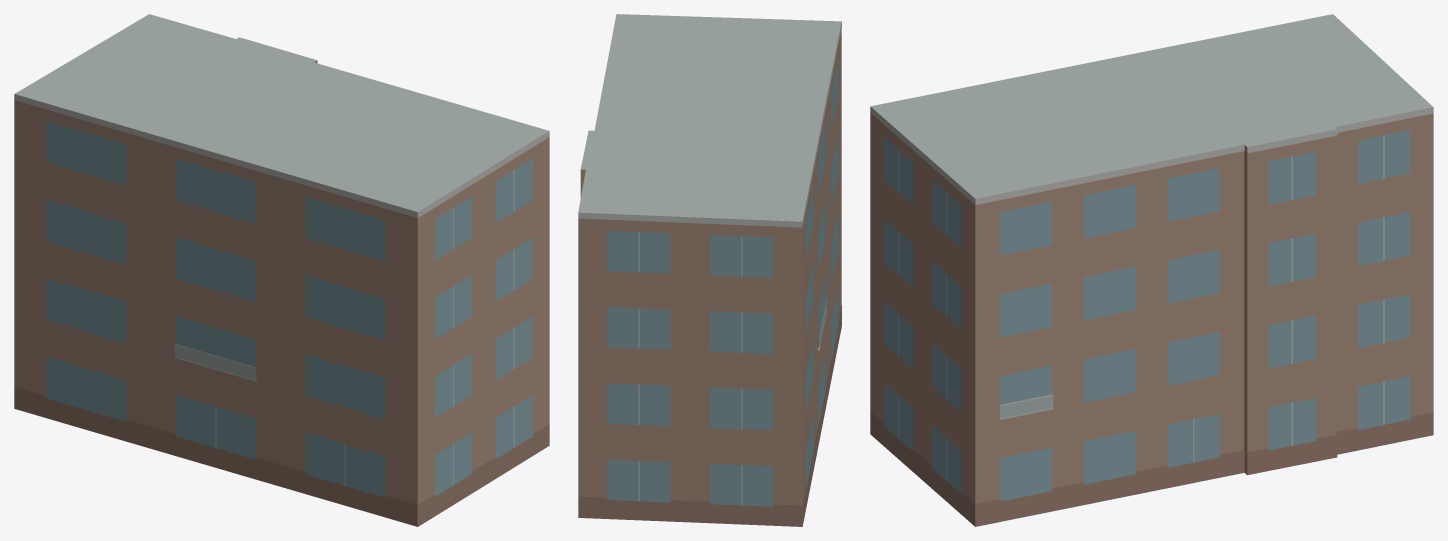
The model's file is survey-upis-32911955.glb.
3 views of the same model, side by side, from view 1: azimuth 30°, elevation 25°; view 2: azimuth 150°, elevation 25°; view 3: azimuth 270°, elevation 25° (orthographic). The views are drawn at different scales.
Parts seen in each view (by area): view 1: survey-upis-32911955.tmp; view 2: survey-upis-32911955.tmp; view 3: survey-upis-32911955.tmp.
Boxes of the visible parts, x1,y1,x2,y2 form: survey-upis-32911955.tmp: (14, 14, 549, 526); survey-upis-32911955.tmp: (578, 14, 841, 526); survey-upis-32911955.tmp: (870, 14, 1433, 526).
Size of the model in its own units: 15.48 by 12.8 by 19.93.
